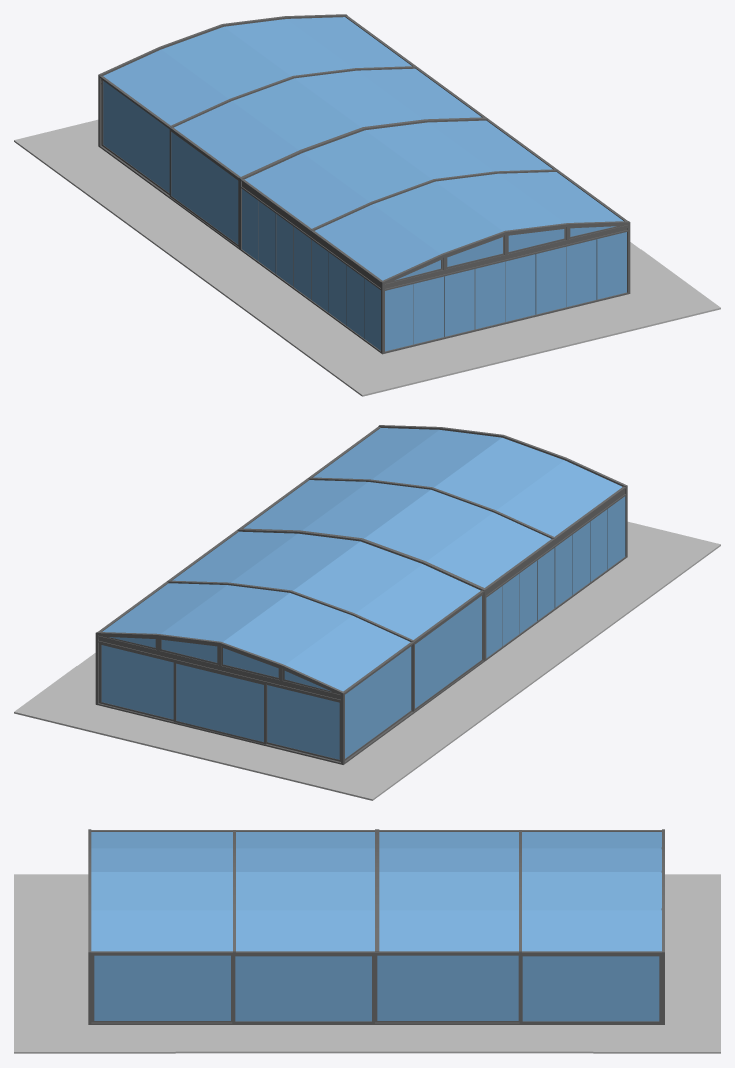
Rendered from Galaxisis.glb.
The picture shows the model from 3 angles, top to bottom: view 1: azimuth 30°, elevation 25°; view 2: azimuth 150°, elevation 25°; view 3: azimuth 270°, elevation 25°; orthographic projection.
Parts seen in each view (by area): view 1: Line009, Box283, Box008, Box284, Box009, Rectangle003, Rectangle004, Box282, Line001, Line008, Box011, Line014 (+12 smaller); view 2: Line009, Box282, entity_1, Box284, Box009, Box283, Rectangle003, Rectangle004, Line014, Box021, Line008, Box011 (+11 smaller); view 3: Line009, Box283, Box285, Box282, Rectangle011, Rectangle008, Rectangle006, Rectangle013, Box014, Box022, Box011, Rectangle012 (+4 smaller).
Boxes of the visible parts, x1,y1,x2,y2 form: Line009: (103,17,623,280); Box283: (282,249,720,396); Box008: (385,232,626,351); Box284: (77,172,338,337); Box009: (242,189,380,350); Rectangle003: (169,129,238,246); Rectangle004: (103,81,169,192); Box282: (14,119,133,187); Line001: (381,221,630,354); Line008: (239,117,487,249); Box011: (100,75,382,282); Line014: (98,14,347,145); Line009: (102,428,622,691); Box282: (14,666,435,800); entity_1: (101,645,339,759); Box284: (378,587,641,754); Box009: (486,496,625,657); Box283: (585,521,720,603); Rectangle003: (412,593,483,711); Rectangle004: (345,646,411,758); Line014: (95,632,344,764); Box021: (98,556,627,764); Line008: (237,528,486,660); Box011: (343,486,625,693); Line009: (91,832,661,951); Box283: (14,874,175,1053); Box285: (170,1025,595,1053); Box282: (593,874,720,1053); Rectangle011: (232,954,374,1023); Rectangle008: (519,954,661,1023); Rectangle006: (377,955,518,1020); Rectangle013: (94,955,230,1020); Box014: (91,951,661,954); Box022: (91,1022,661,1024); Box011: (91,830,661,831); Rectangle012: (91,954,232,1022).
Bounding box in the file's own units: 846 × 256 × 1424.
